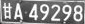A: (14, 3, 23, 19)
